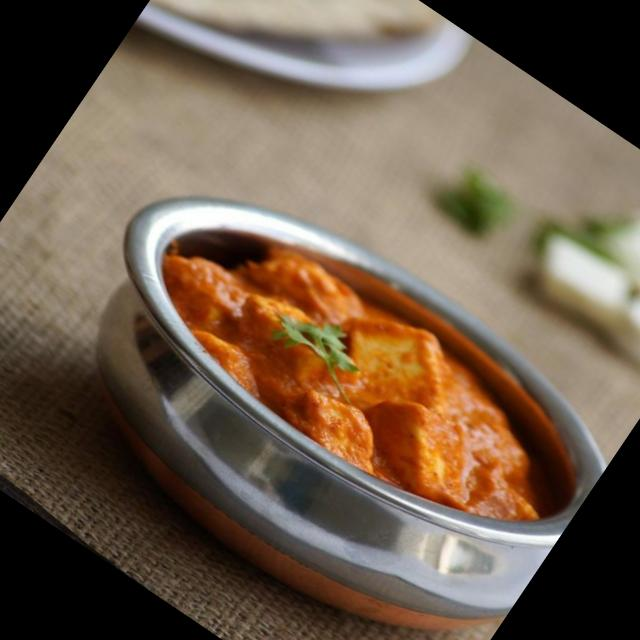ShahiPaneer: (117, 176, 594, 573)
